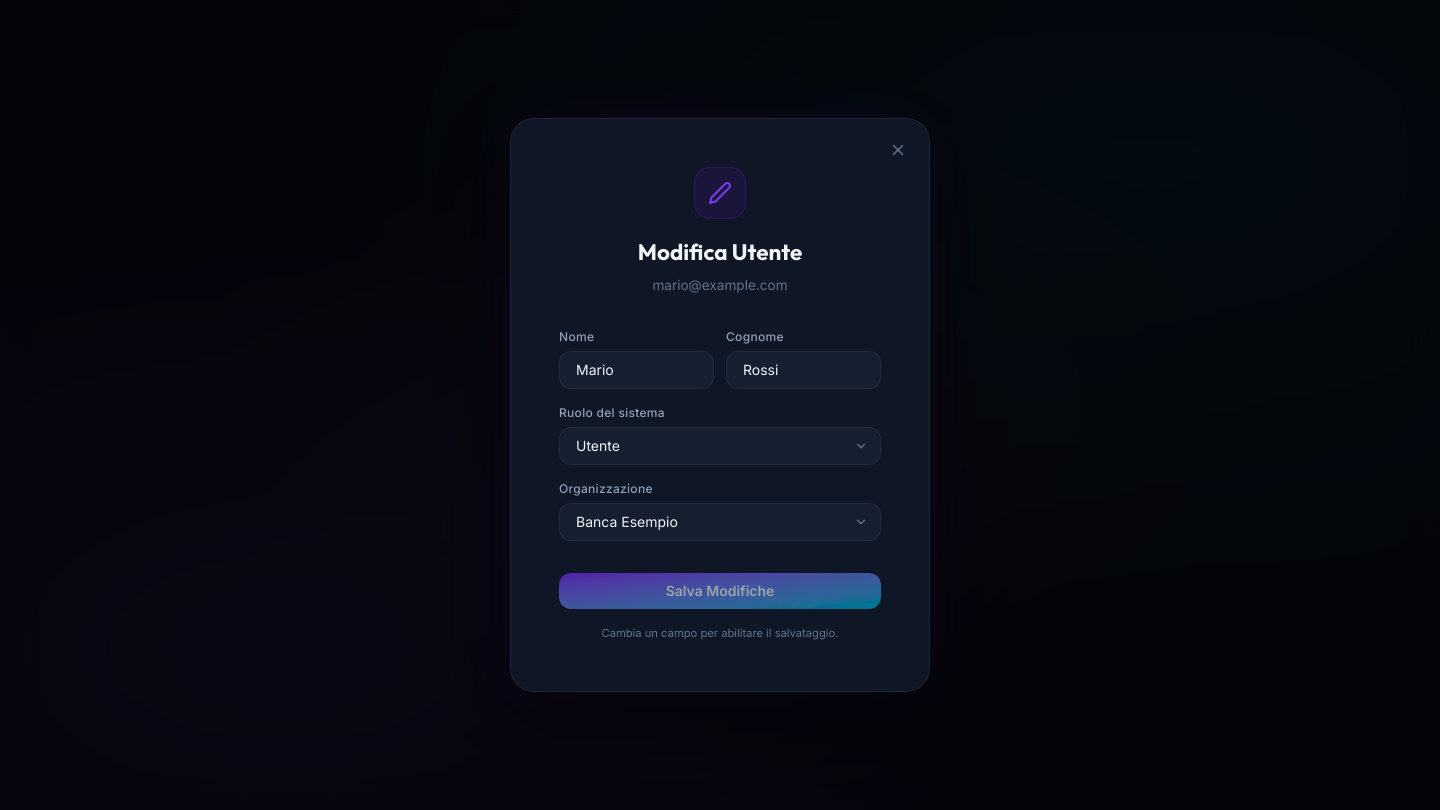
Scenario: UserEditModal › vede anche il cambio di organizzazione
The image size is (1440, 810).
Click the dropdown named "Organizzazione".
click(627, 521)  # box [559,503,881,541]
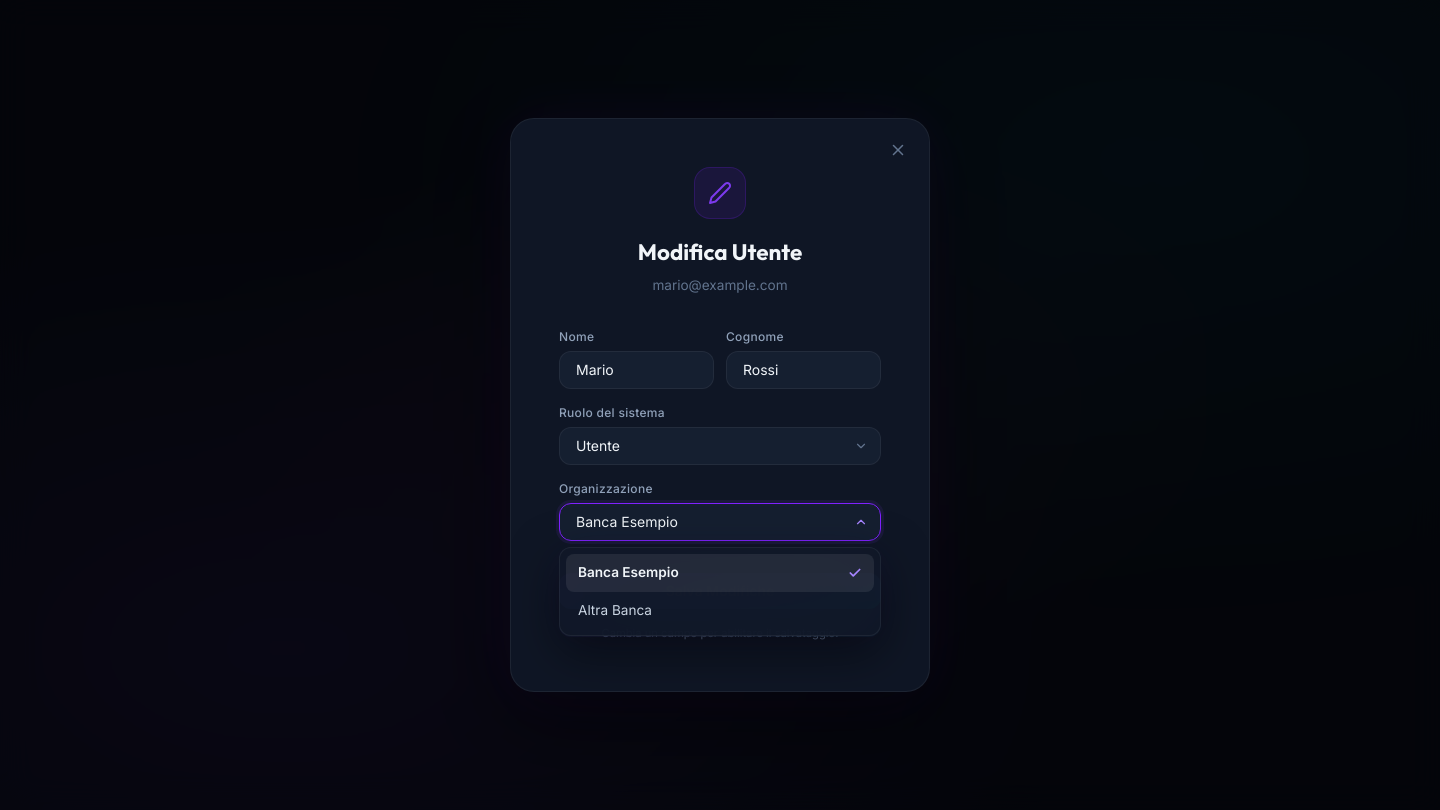
Click the option "Altra Banca".
click(615, 610)  # box [578,602,652,618]
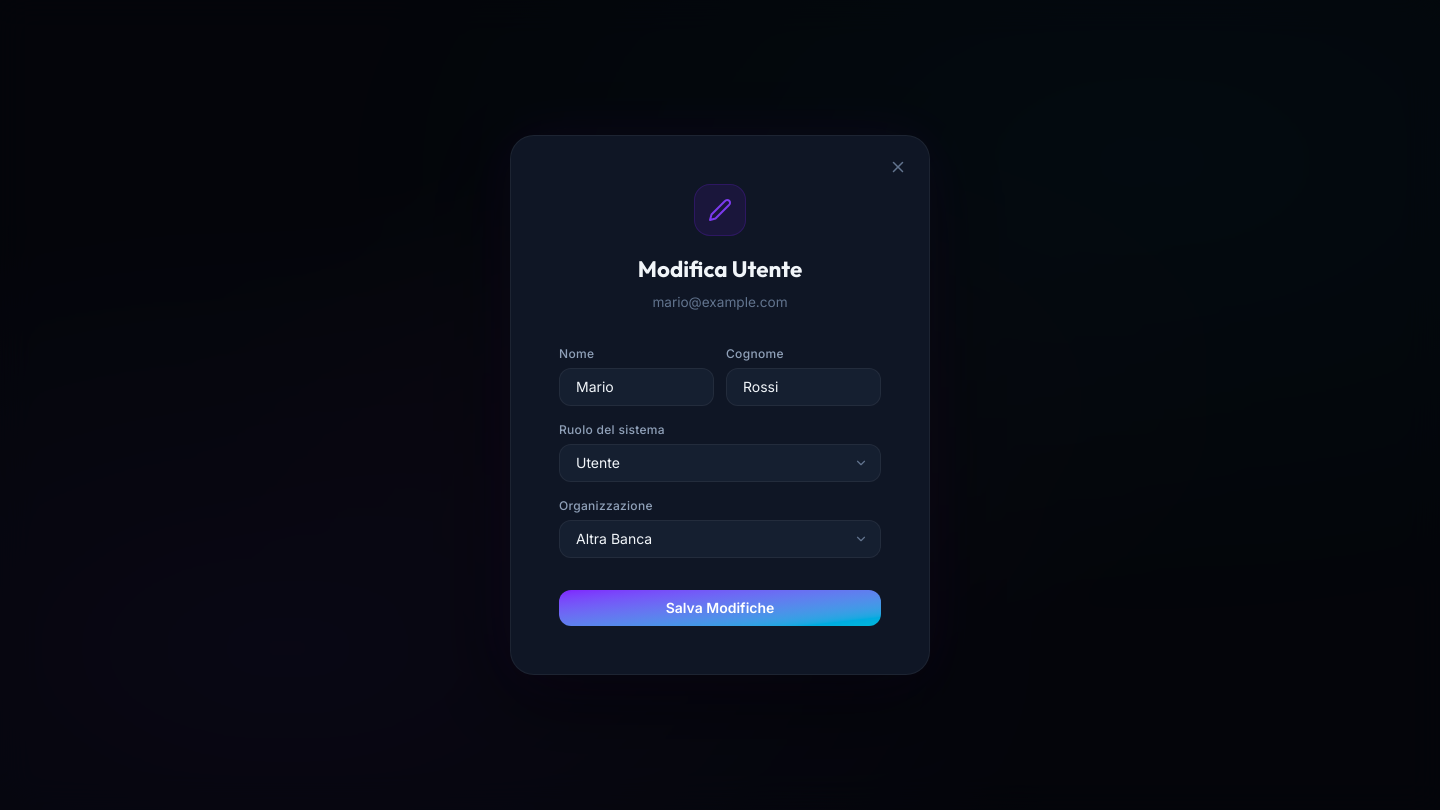
Expected: the button "Salva Modifiche" is enabled, [559,590,881,626]
